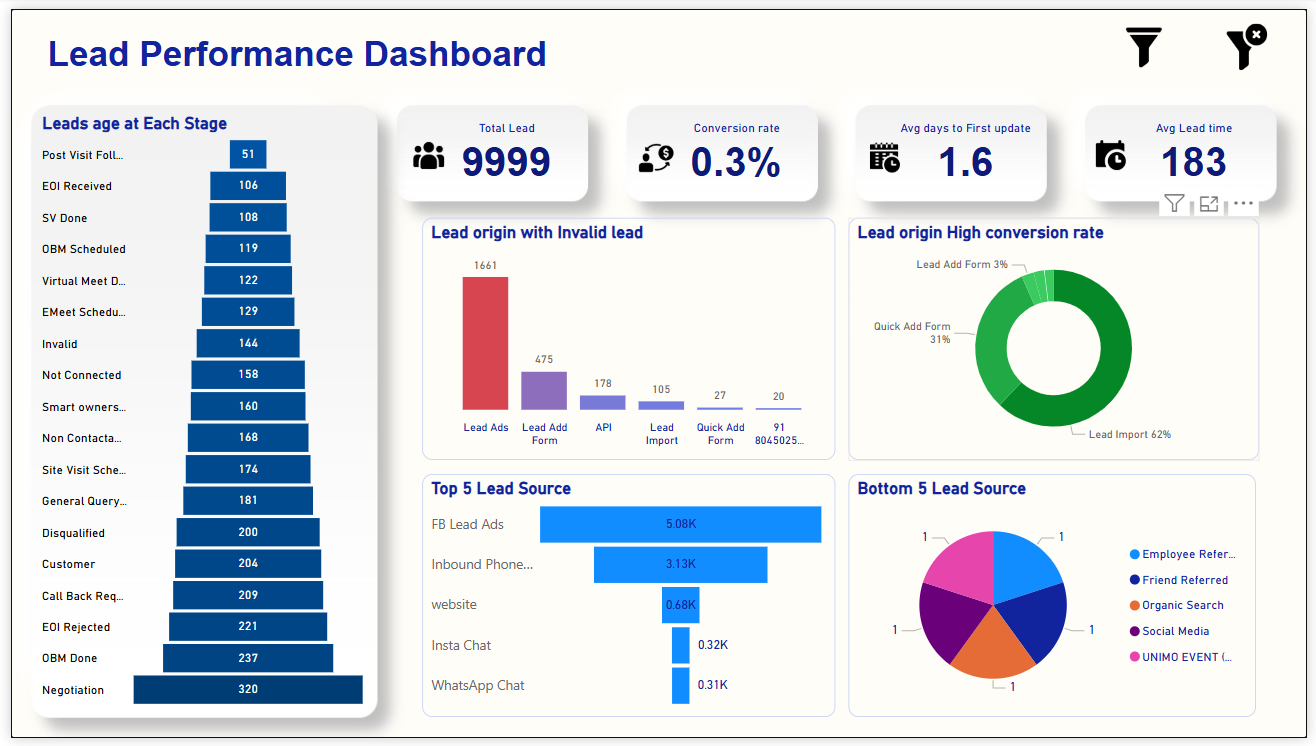

This screenshot's page, from the dashboard's own definition file:
{"tool":"powerbi","page":{"name":"Home","canvas":[1280,720],"ordinal":1},"visuals":[{"type":"image","box":[1180,10,80,55],"z":0},{"type":"image","box":[1088.8,13.8,60,48.8],"z":1000},{"type":"funnel","title":"Leads age at Each Stage","fields":{"Category":["Lead Properties.Lead Stage"],"Y":["Avg(Lead Properties.Lead Age)"]},"box":[25.3,102.5,331.8,592.4],"z":2000},{"type":"funnel","title":"Top 5 Lead Source","fields":{"Category":["Lead Properties.Lead Source"],"Y":["CountNonNull(Lead Properties.Prospect ID)"]},"box":[405.7,459.6,408.3,240.1],"z":3000},{"type":"pieChart","title":"Bottom 5 Lead Source","fields":{"Category":["Lead Properties.Lead Source"],"Y":["CountNonNull(Lead Properties.Prospect ID)"]},"box":[827.5,459.6,402.1,240.1],"z":4000},{"type":"columnChart","title":"Lead origin with Invalid lead","fields":{"Category":["Lead Properties.Lead Origin"],"Y":["CountNonNull(Lead Properties.Prospect ID)"]},"box":[405.7,206.3,408.3,238.9],"z":5000},{"type":"donutChart","title":"Lead origin High conversion rate","fields":{"Category":["Lead Properties.Lead Origin"],"Y":["Measure.Conversion Rate"]},"box":[827.5,206.3,405.8,238.9],"z":6000},{"type":"shape","box":[16,2.5,533.3,84],"z":7000},{"type":"card","title":"Total Lead","fields":{"Values":["Measure.Total Leads"]},"box":[410.1,110,160,70],"z":8000},{"type":"card","title":"Conversion rate","fields":{"Values":["Measure.Conversion Rate"]},"box":[636.6,110,160,70],"z":9000},{"type":"card","title":"Avg days to First update","fields":{"Values":["Measure.Average Time to First Update"]},"box":[863,110,160,70],"z":10000},{"type":"card","title":"Avg Lead time","fields":{"Values":["Measure.Average Lead Age"]},"box":[1089.4,110,159.3,70],"z":11000},{"type":"image","box":[392.1,124.2,40,40],"z":12000},{"type":"image","box":[614.6,124.2,45,45],"z":13000},{"type":"image","box":[1066.7,124.7,39.5,39.5],"z":14000},{"type":"image","box":[842.2,127.2,42,39.5],"z":16000}]}

Visuals, with their boxes in screenshot pixels (x1, y1, x2, y2), scaled from the page's 1280x720 canvas onto the 1316x746 screenshot:
image: <region>1213, 10, 1295, 67</region>
image: <region>1119, 14, 1181, 65</region>
"Leads age at Each Stage" funnel: <region>26, 106, 367, 720</region>
"Top 5 Lead Source" funnel: <region>417, 476, 837, 725</region>
"Bottom 5 Lead Source" pieChart: <region>851, 476, 1264, 725</region>
"Lead origin with Invalid lead" columnChart: <region>417, 214, 837, 461</region>
"Lead origin High conversion rate" donutChart: <region>851, 214, 1268, 461</region>
shape: <region>16, 3, 565, 90</region>
"Total Lead" card: <region>422, 114, 586, 187</region>
"Conversion rate" card: <region>655, 114, 819, 187</region>
"Avg days to First update" card: <region>887, 114, 1052, 187</region>
"Avg Lead time" card: <region>1120, 114, 1284, 187</region>
image: <region>403, 129, 444, 170</region>
image: <region>632, 129, 678, 175</region>
image: <region>1097, 129, 1137, 170</region>
image: <region>866, 132, 909, 173</region>
